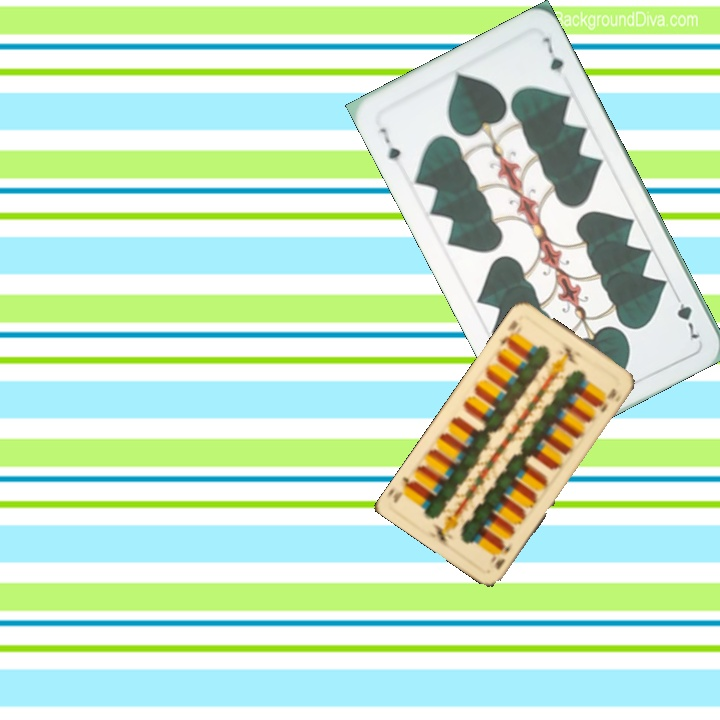E10: (486, 538, 515, 572), (495, 316, 521, 351)
G7: (669, 288, 703, 342), (375, 123, 403, 164)
